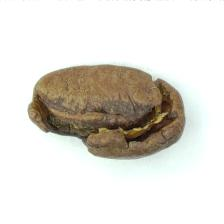NG: (32, 65, 179, 159)
